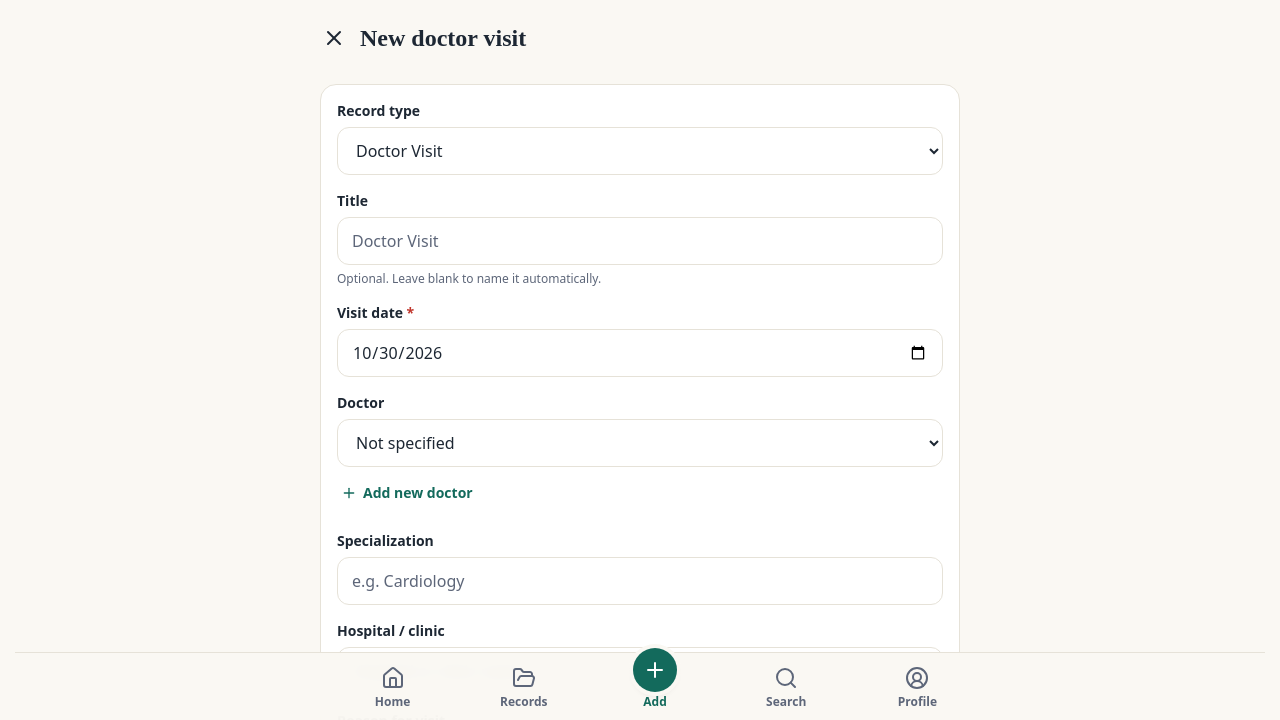
Test case: adding a record › lets an untouched form be left by any route without asking
Click the link "Records": (524, 688) [500, 666, 548, 710]
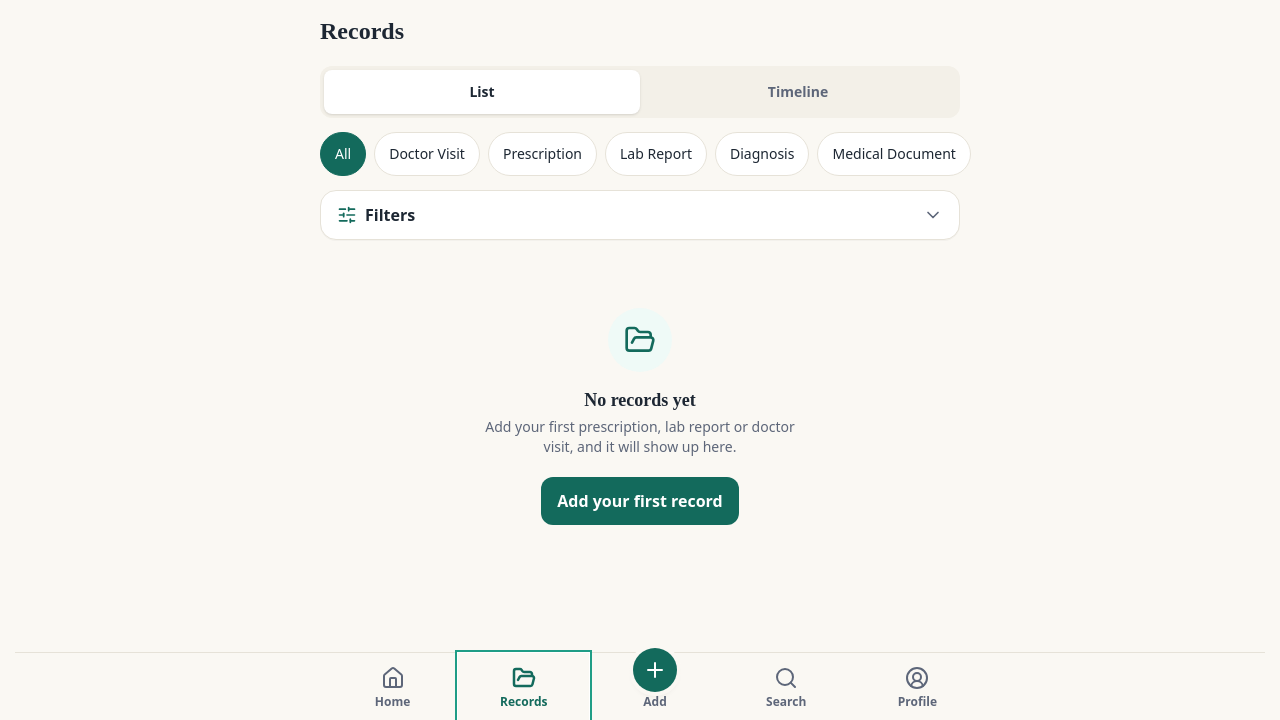
Expected: the heading "Records" is shown, [320, 18, 404, 44]
